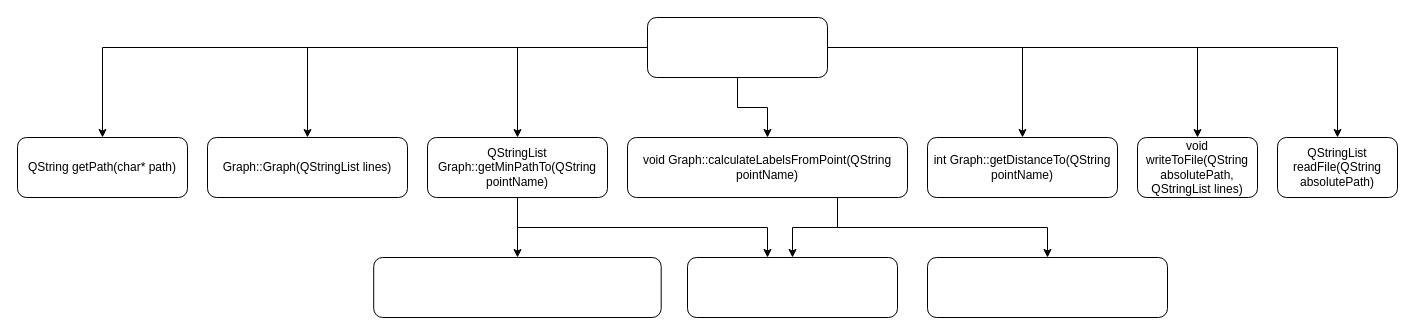
Image size: 1415x335. Some labels were removed from this diagram. The shapes that lost their labels are listed below. From the top down, each one's box as (x1, y1, x2, y2) in pixels, then its label:
(646, 16, 828, 78): int main(int argc, char *argv[])
(373, 256, 661, 318): QList<int> Graph::getConnectedPoints(int toPoint)
(686, 256, 898, 318): int Graph::getPointIndex(QString pointName)
(926, 256, 1168, 318): int Graph::getIndexOfMin(QList<int> list)
